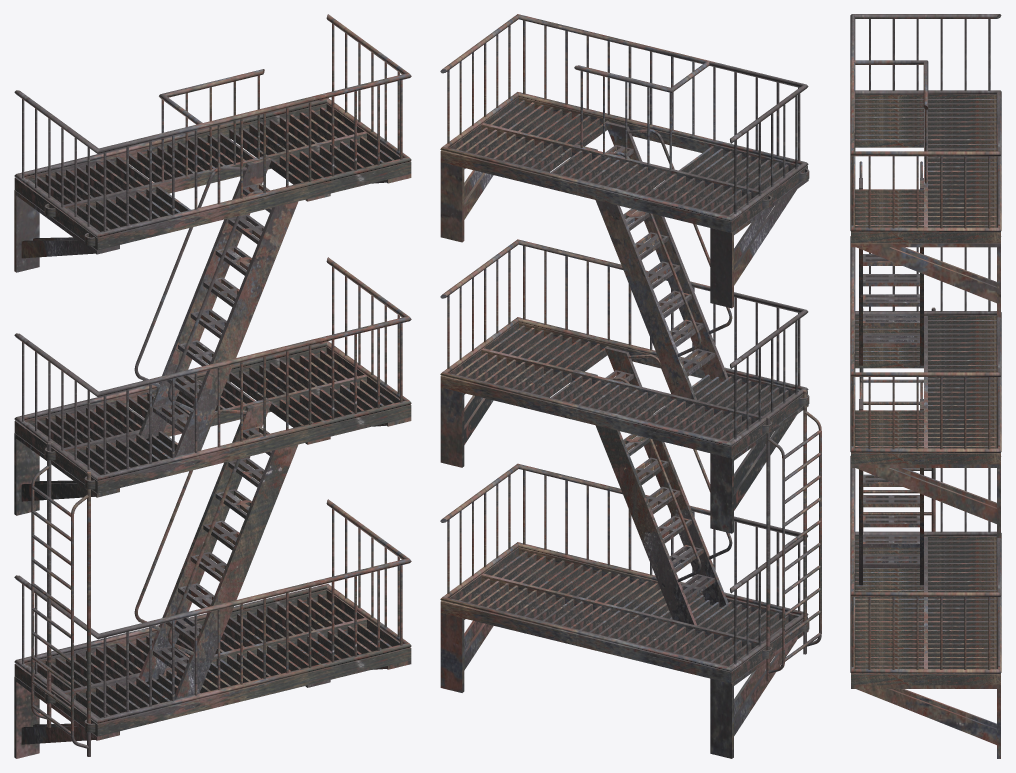
The model's file is Ladder.glb.
3 views of the same model, side by side, from view 1: azimuth 30°, elevation 25°; view 2: azimuth 150°, elevation 25°; view 3: azimuth 270°, elevation 25° (orthographic). The views are drawn at different scales.
Parts seen in each view (by area): view 1: TOP, BASE, FLOOR, MAINSTEPS, BRACKET, SLIDE; view 2: TOP, BASE, FLOOR, MAINSTEPS, BRACKET, SLIDE; view 3: TOP, BASE, FLOOR, BRACKET, MAINSTEPS, SLIDE.
Part boxes in pixels (box(x1,y1,x2,y2)): TOP: box(14, 14, 411, 250); BASE: box(14, 499, 411, 736); FLOOR: box(14, 257, 411, 493); MAINSTEPS: box(134, 158, 298, 699); BRACKET: box(14, 174, 411, 758); SLIDE: box(31, 442, 90, 756); TOP: box(440, 14, 809, 232); BASE: box(440, 463, 809, 683); FLOOR: box(440, 239, 809, 458); MAINSTEPS: box(575, 121, 732, 625); BRACKET: box(440, 162, 808, 758); SLIDE: box(766, 390, 821, 681); TOP: box(850, 14, 1001, 243); BASE: box(850, 456, 1001, 685); FLOOR: box(850, 236, 1001, 464); BRACKET: box(851, 243, 1000, 758); MAINSTEPS: box(859, 161, 923, 585); SLIDE: box(859, 307, 935, 531).
Size of the model in its own units: 4.32 by 8.23 by 1.86.
Materials: 1 (1 with a texture image).
